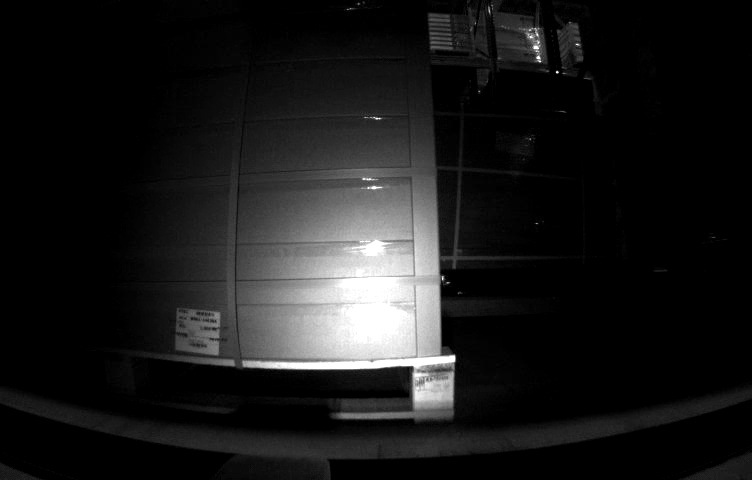True Barcode: (174, 305, 221, 354)
